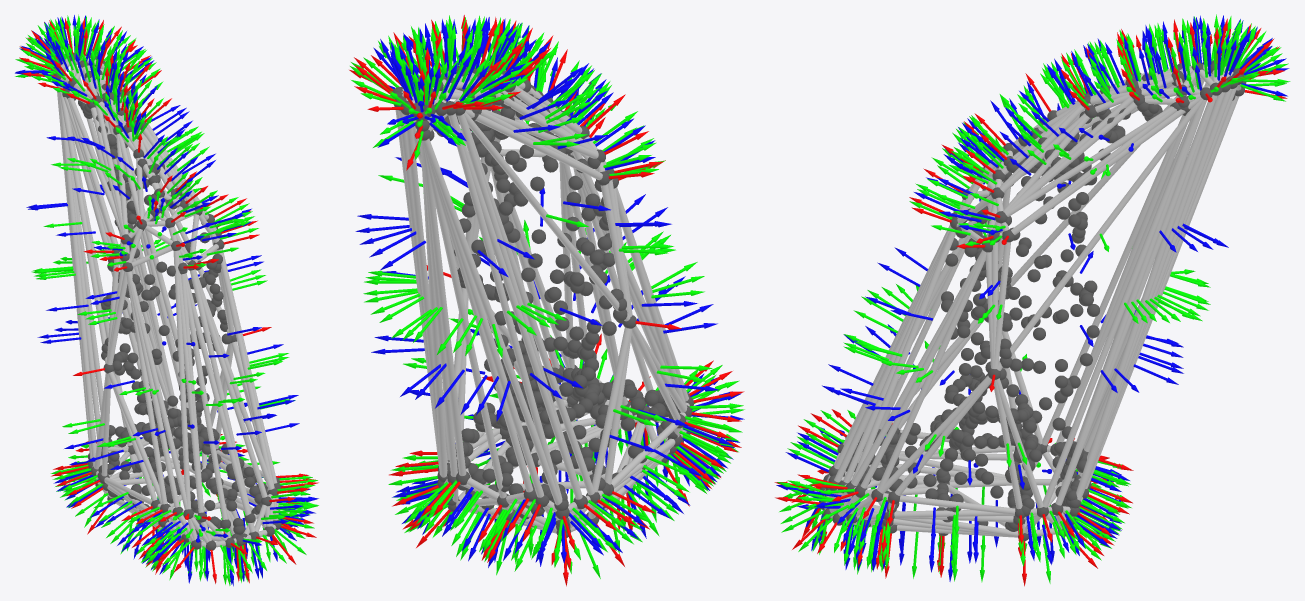
Rendered from cassie_vacuum.gltf.
3 renders of one model, left to right at view 1: azimuth 30°, elevation 25°; view 2: azimuth 150°, elevation 25°; view 3: azimuth 270°, elevation 25°, orthographic. The views are drawn at different scales.
Bounding box in the file's own units: 0.4167 × 0.8938 × 0.7835.
